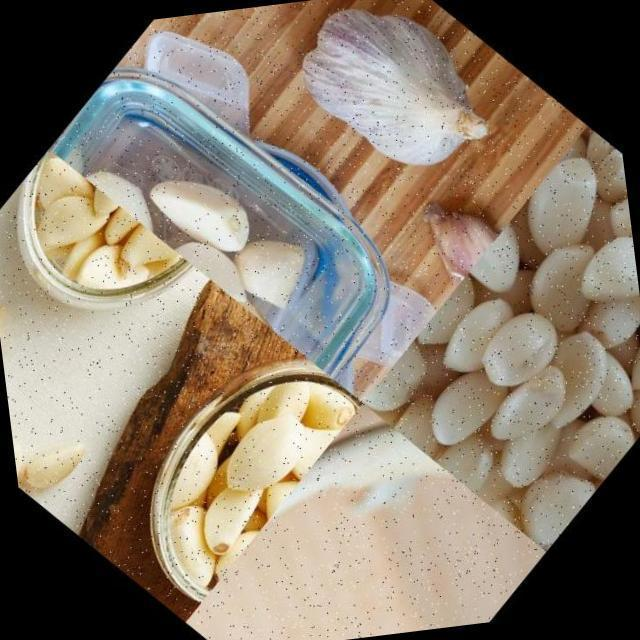garlic: (332, 121, 640, 570), (97, 324, 382, 605), (74, 89, 335, 354), (264, 0, 525, 222), (0, 136, 187, 343), (374, 182, 509, 316), (8, 388, 98, 512), (0, 291, 36, 405)
